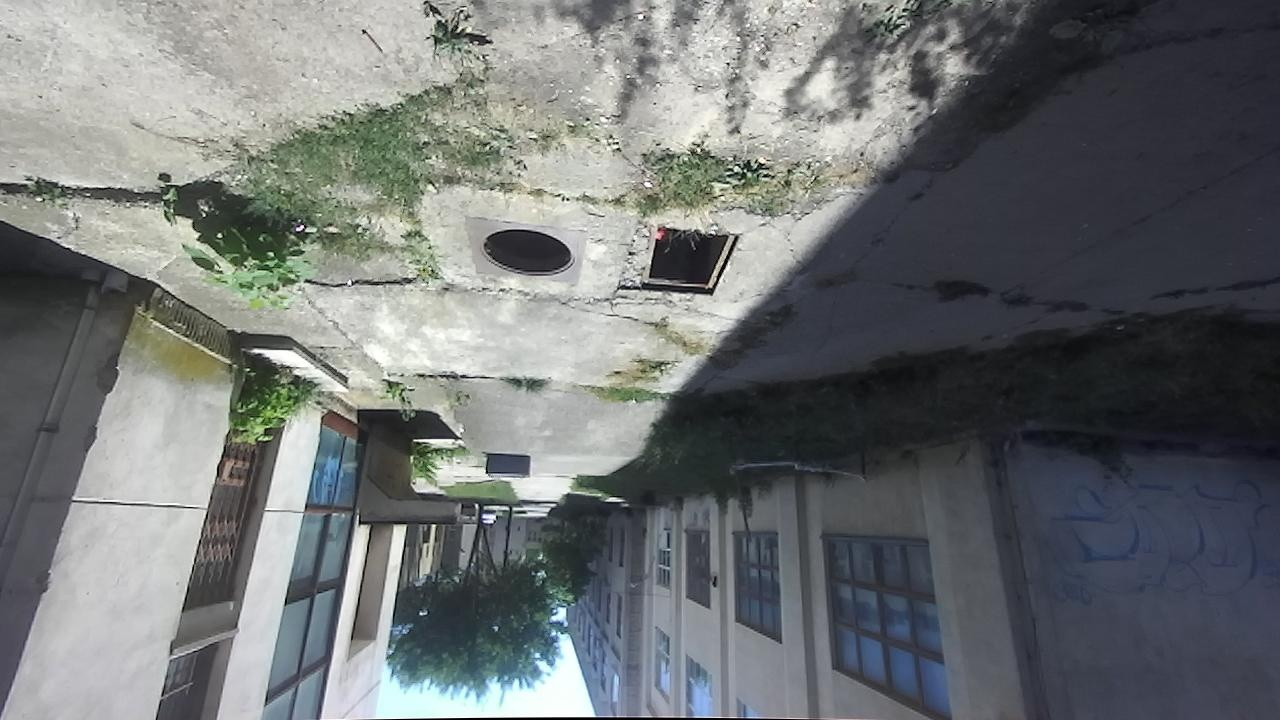drain: (637, 229, 746, 299), (475, 227, 583, 278)
